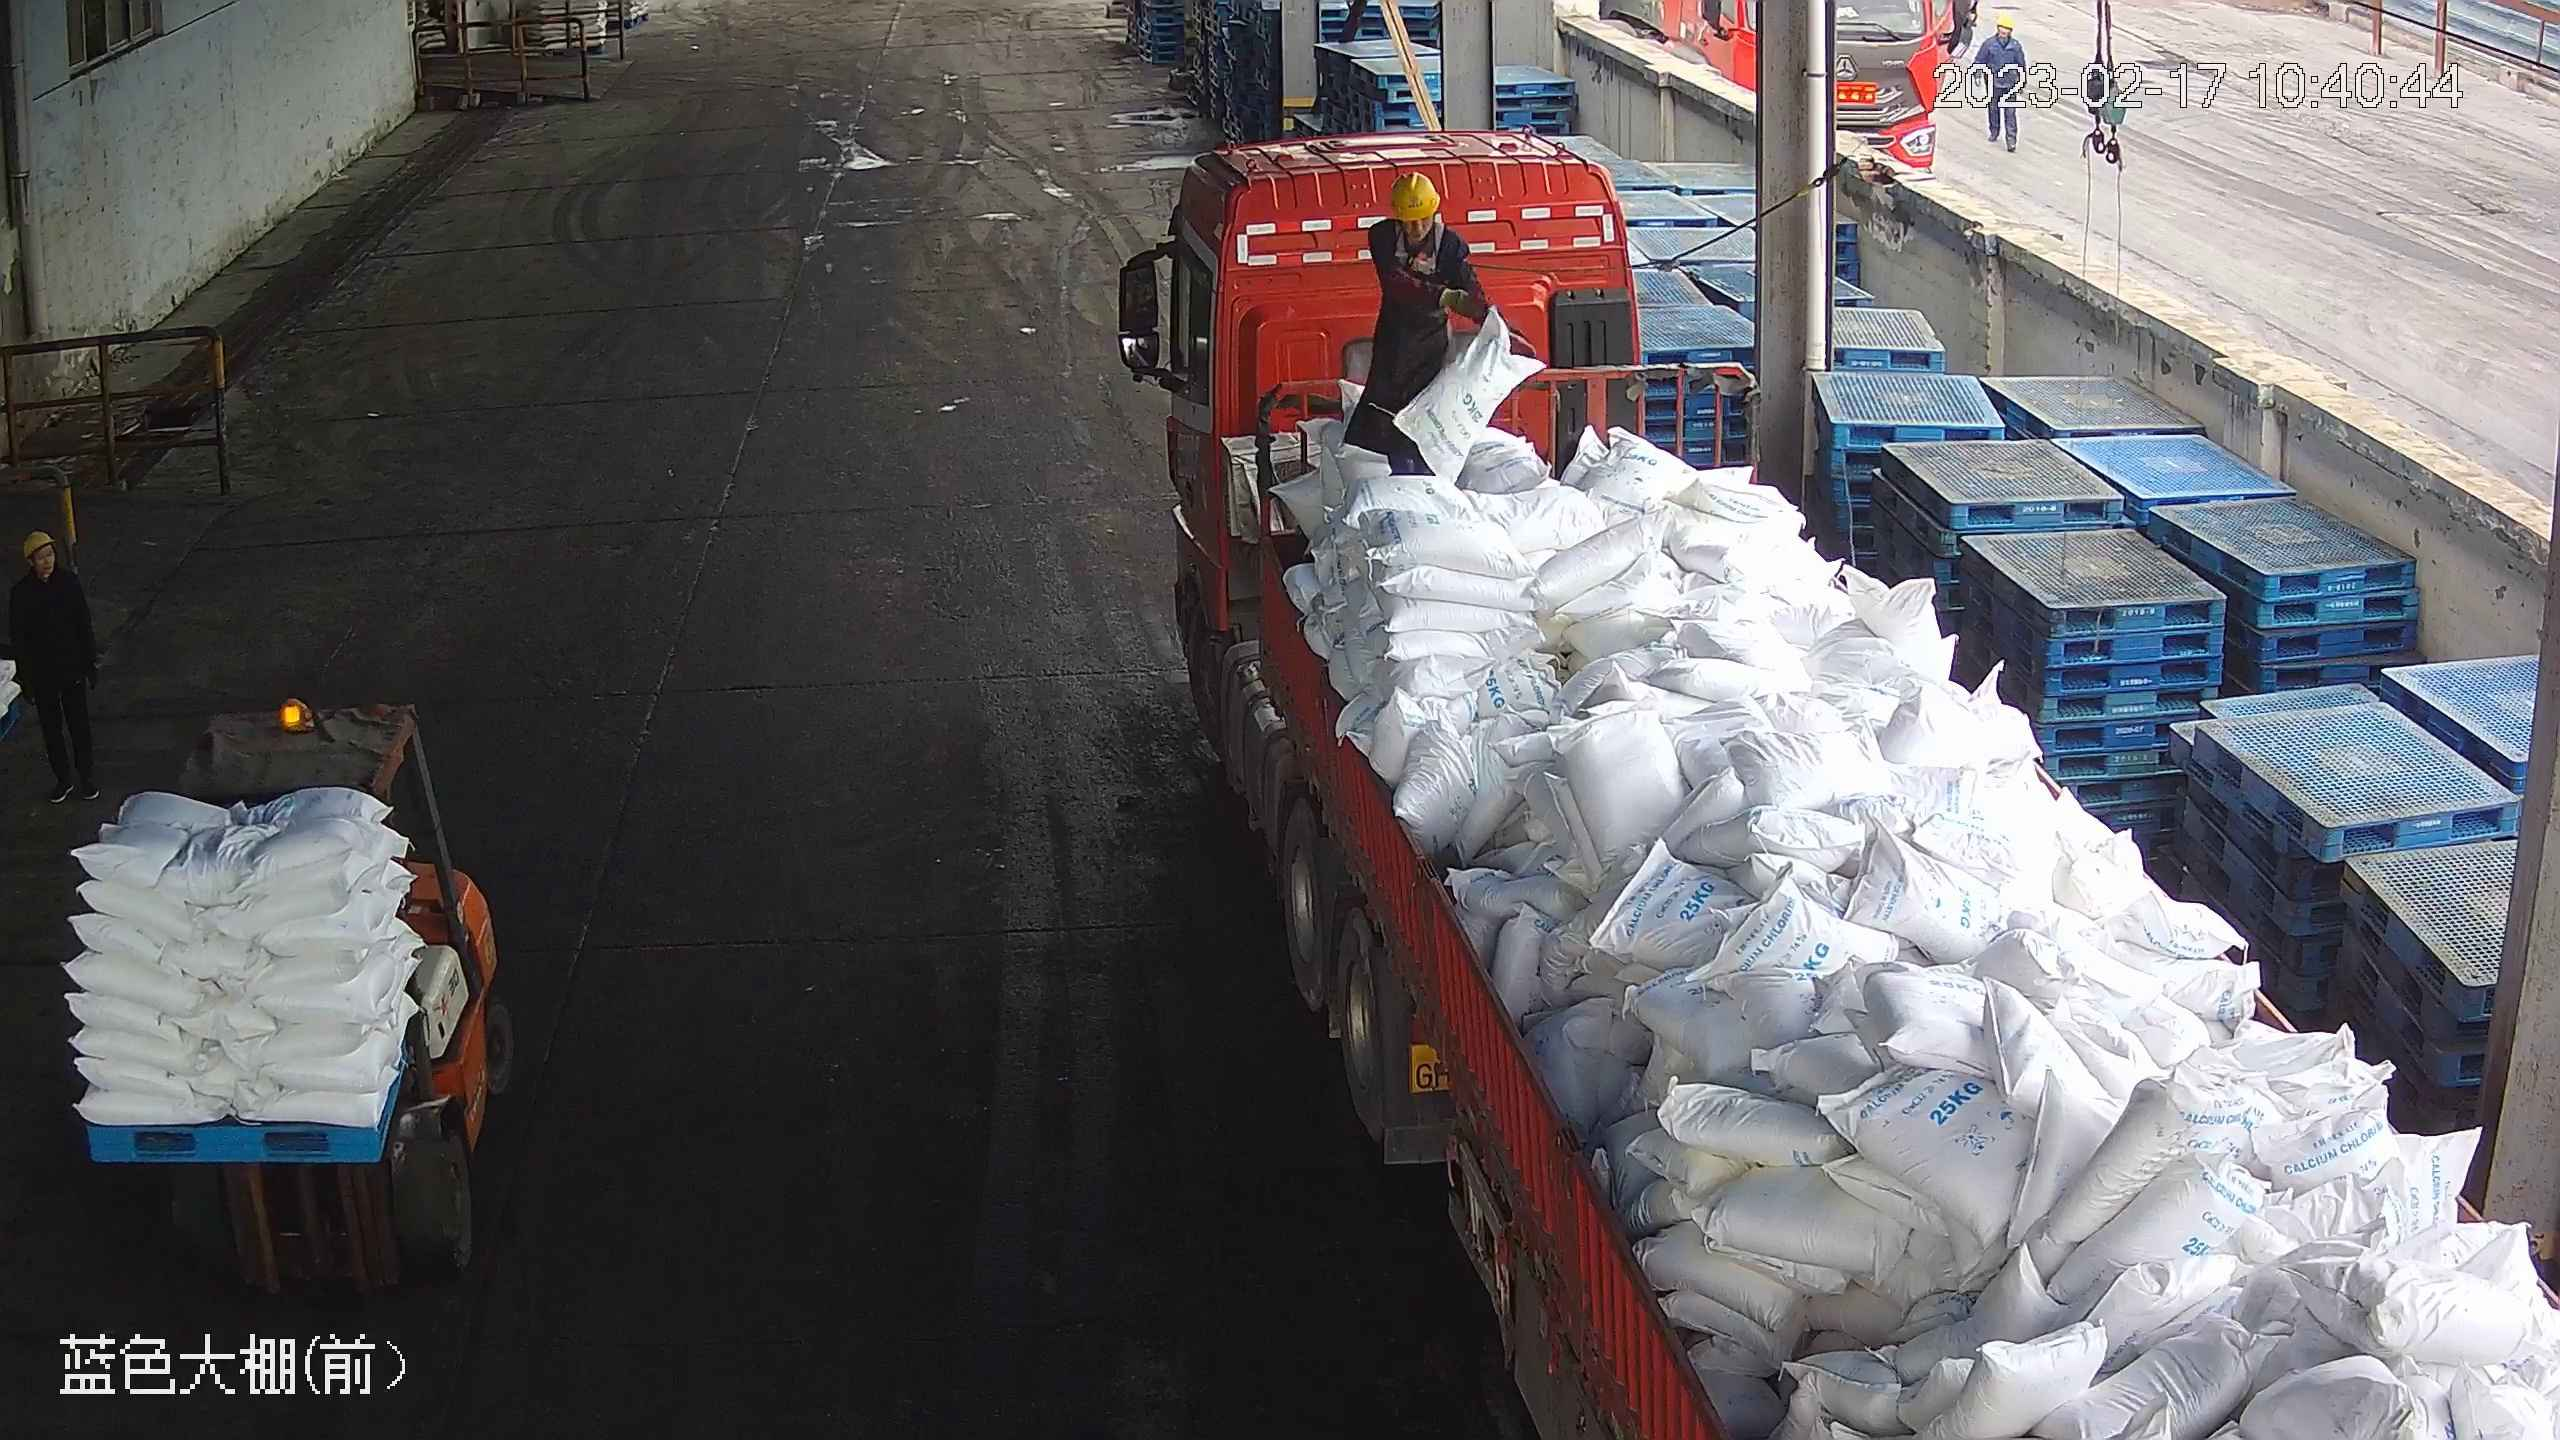belt: (1392, 226, 1448, 278)
head: (1374, 171, 1464, 271), (4, 529, 88, 616), (1984, 12, 2026, 51)
helmet: (1387, 170, 1442, 219), (16, 529, 49, 556), (1994, 11, 2017, 29)
people: (1344, 170, 1480, 485), (2, 528, 109, 802), (1976, 10, 2027, 148)
truck: (1122, 156, 2557, 1440)
